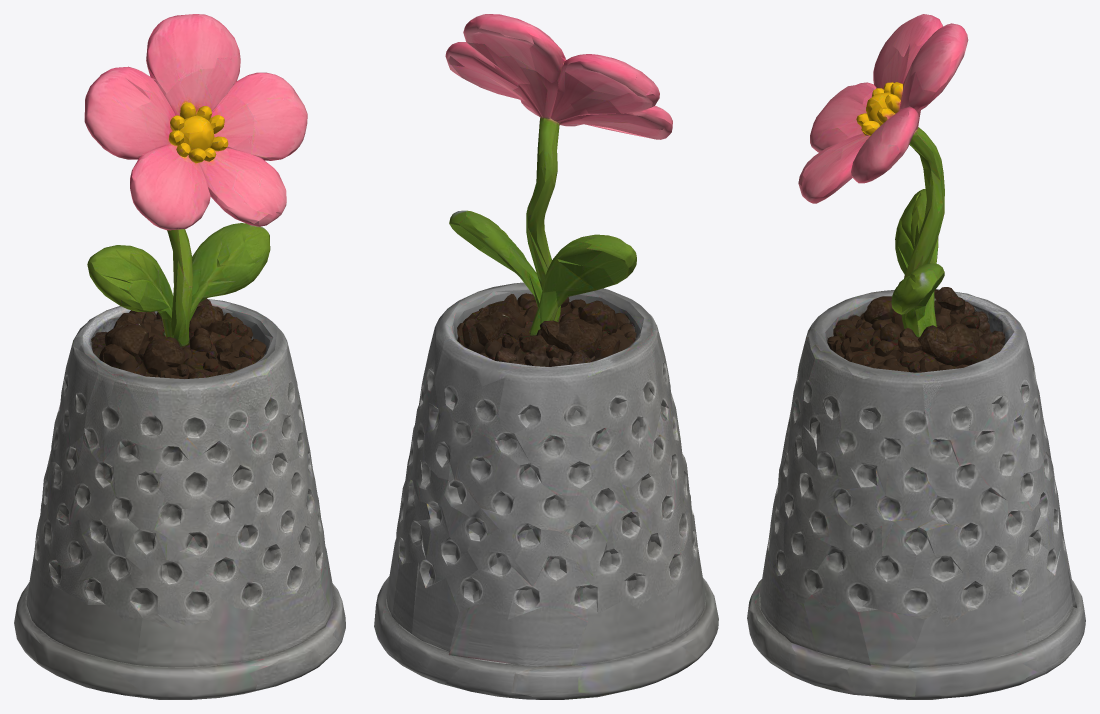
The model's file is props_kukka.glb.
3 views of the same model, side by side, from view 1: azimuth 30°, elevation 25°; view 2: azimuth 150°, elevation 25°; view 3: azimuth 270°, elevation 25° (orthographic). The views are drawn at different scales.
Parts seen in each view (by area): view 1: output_unwrapped; view 2: output_unwrapped; view 3: output_unwrapped.
Part boxes in pixels (x1=…): output_unwrapped: x1=14, y1=14, x2=345, y2=699; output_unwrapped: x1=374, y1=14, x2=718, y2=699; output_unwrapped: x1=747, y1=14, x2=1085, y2=699.
Size of the model in its own units: 0.1005 by 0.2 by 0.1005.
1 material, 1 textured.
